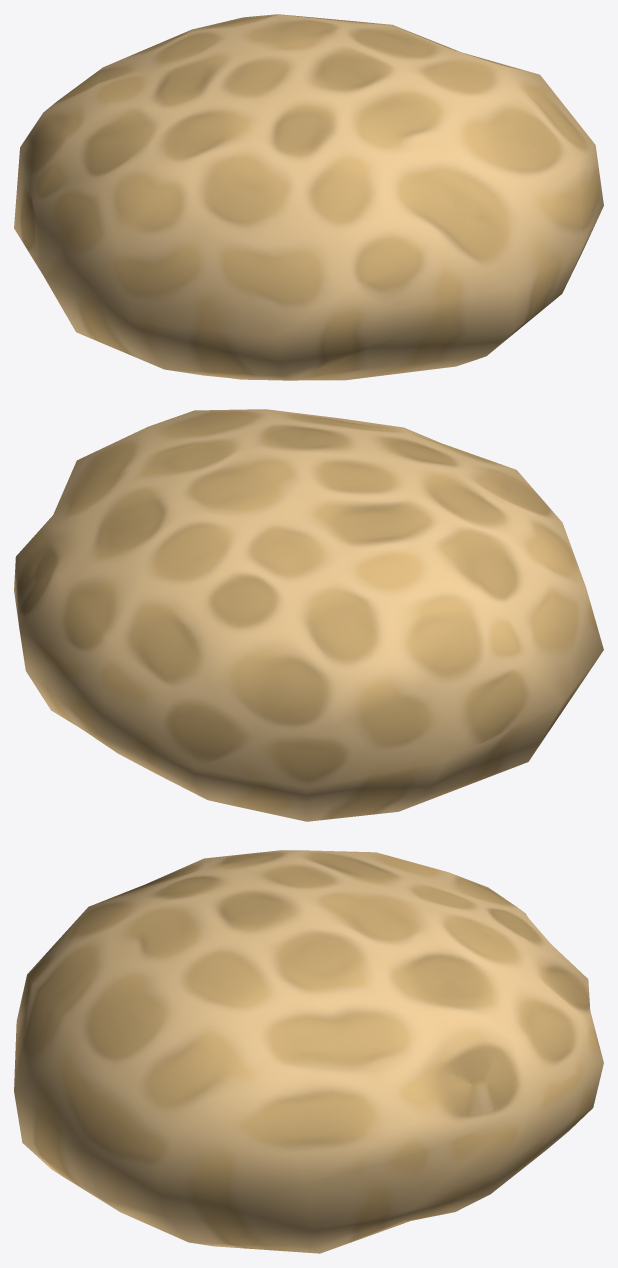
Rendered from coral27_FBX_still.fbx.
3 renders of one model, top to bottom at view 1: azimuth 30°, elevation 25°; view 2: azimuth 150°, elevation 25°; view 3: azimuth 270°, elevation 25°, orthographic. The views are drawn at different scales.
Parts seen in each view (by area): view 1: coral27_gameasset; view 2: coral27_gameasset; view 3: coral27_gameasset.
Part boxes in pixels (<box>): coral27_gameasset: <box>14,14,603,380</box>; coral27_gameasset: <box>14,409,603,821</box>; coral27_gameasset: <box>14,850,603,1253</box>.
Bounding box in the file's own units: 1.34 × 0.7548 × 1.28.
Materials: 1 (1 with a texture image).
